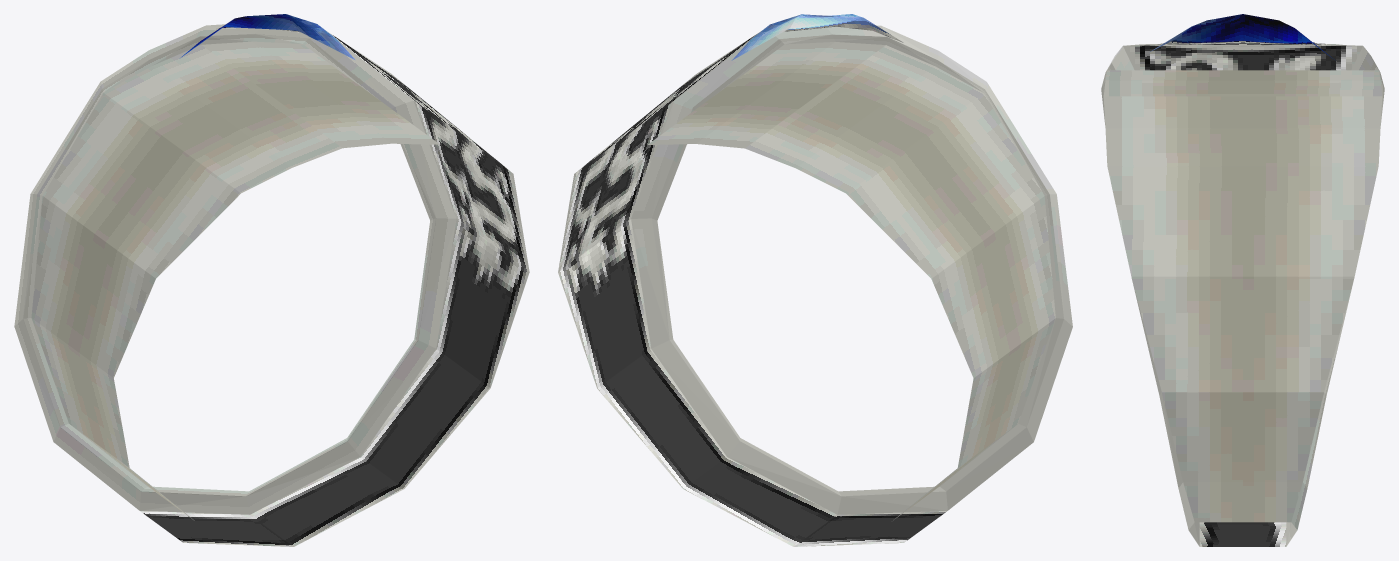
Rendered from ps2_save-icons_katekyohitmanvongola.glb.
3 views of the same model, side by side, from view 1: azimuth 30°, elevation 25°; view 2: azimuth 150°, elevation 25°; view 3: azimuth 270°, elevation 25° (orthographic).
Parts seen in each view (by area): view 1: reborn2.ico; view 2: reborn2.ico; view 3: reborn2.ico.
Part boxes in pixels (left/top/right/bottom): reborn2.ico: left=14, top=14, right=529, bottom=546; reborn2.ico: left=558, top=14, right=1072, bottom=546; reborn2.ico: left=1101, top=14, right=1384, bottom=546.
Bounding box in the file's own units: 4.42 × 4.81 × 2.49.
1 material, 1 textured.
